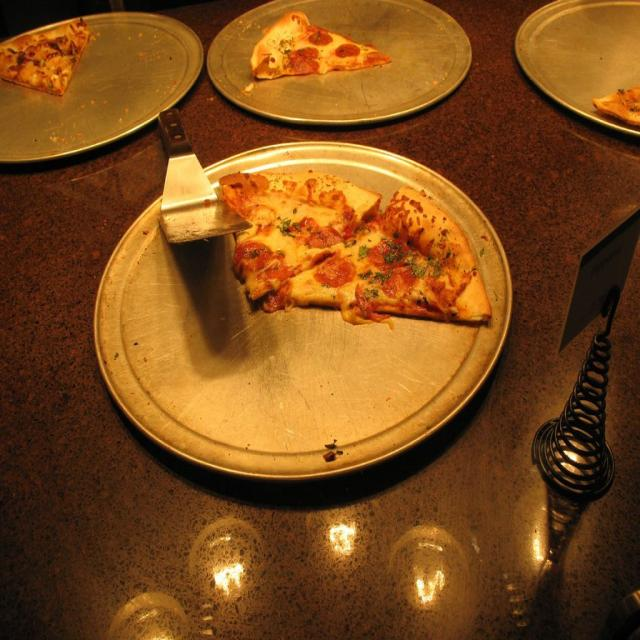non-organic waste: (102, 162, 511, 482)
